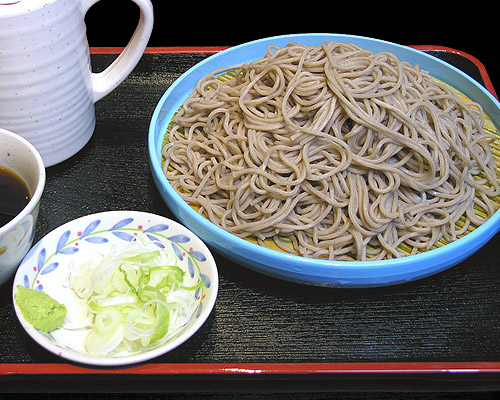Soba: (174, 40, 500, 266)
